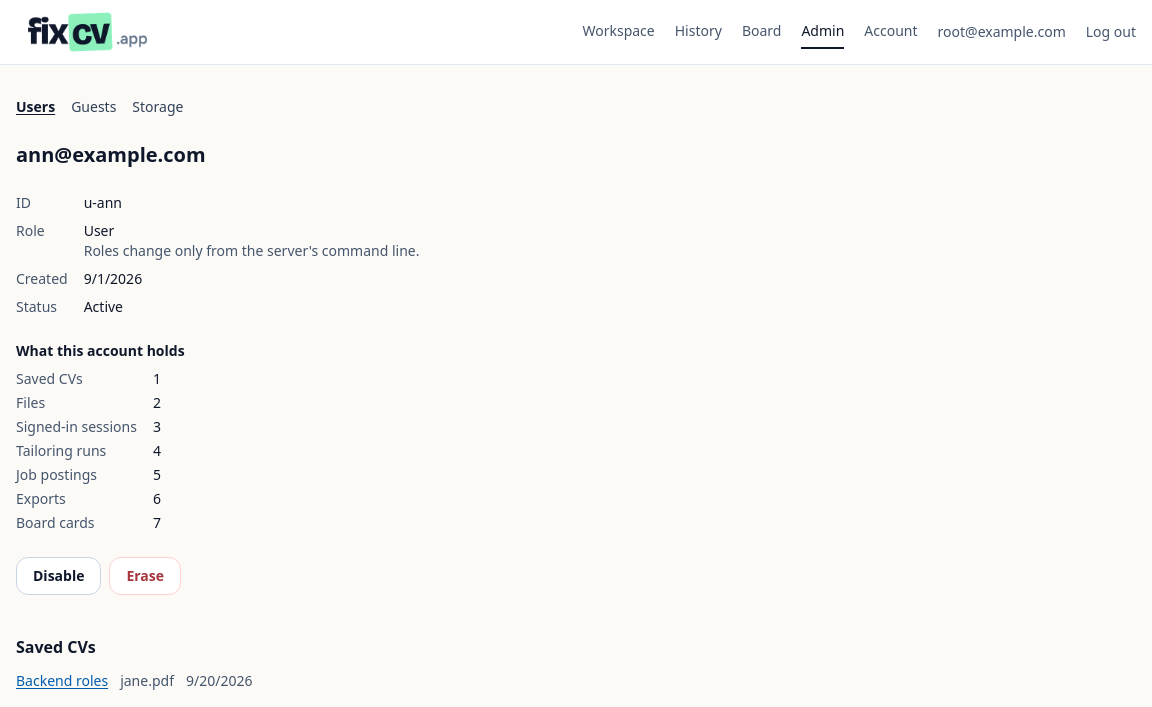
AC-32 — keys › a CV page loads its CV under the same prefix
Click the link "Backend roles" at (62, 681), box [16, 671, 108, 691]
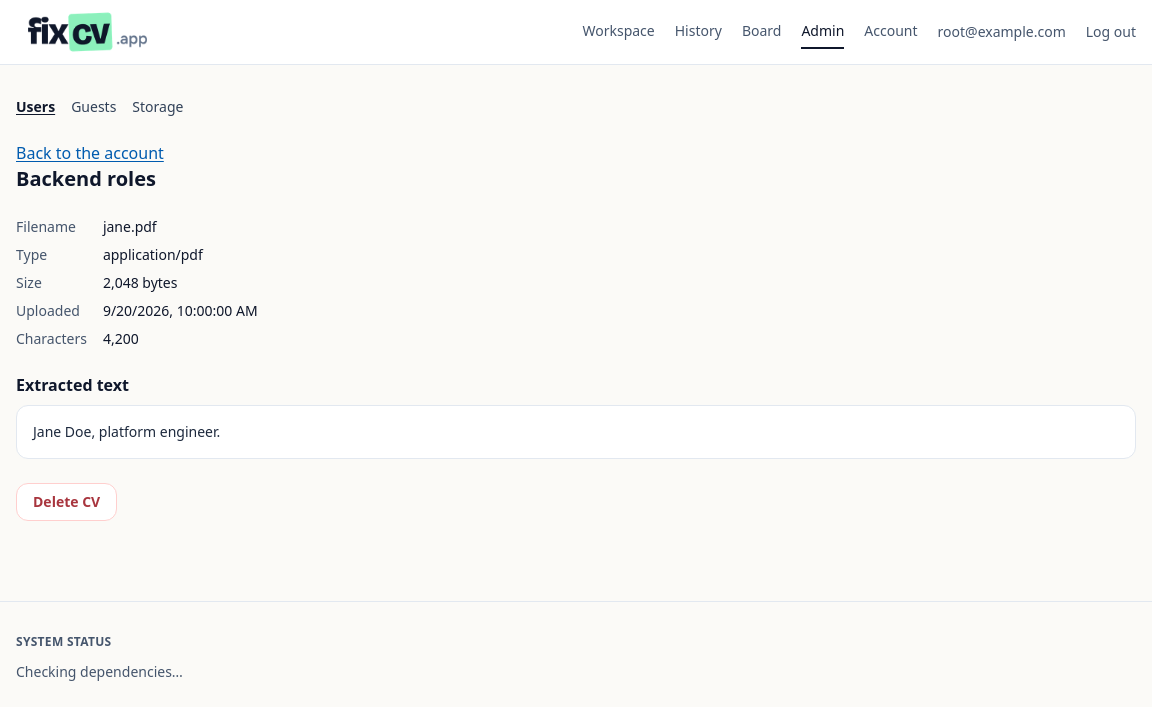
Now the heading "Backend roles" is shown, box [16, 165, 156, 192]
